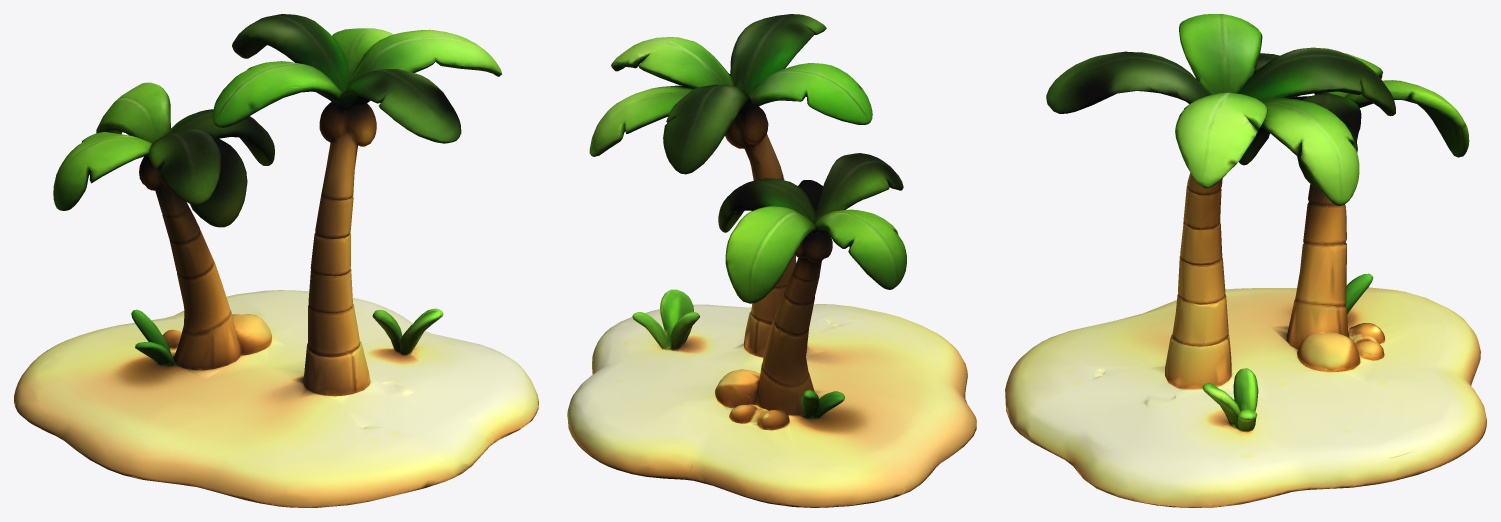
Rendered from palm-tree.glb.
The picture shows the model from 3 angles, left to right: view 1: azimuth 30°, elevation 25°; view 2: azimuth 150°, elevation 25°; view 3: azimuth 270°, elevation 25°; orthographic projection. The views are drawn at different scales.
Parts seen in each view (by area): view 1: geometry_0; view 2: geometry_0; view 3: geometry_0.
Boxes of the visible parts, <box> form: geometry_0: <box>14,14,538,507</box>; geometry_0: <box>567,14,976,507</box>; geometry_0: <box>1005,14,1486,507</box>.
Bounding box in the file's own units: 0.9613 × 0.797 × 0.9321.
1 material, 1 textured.
